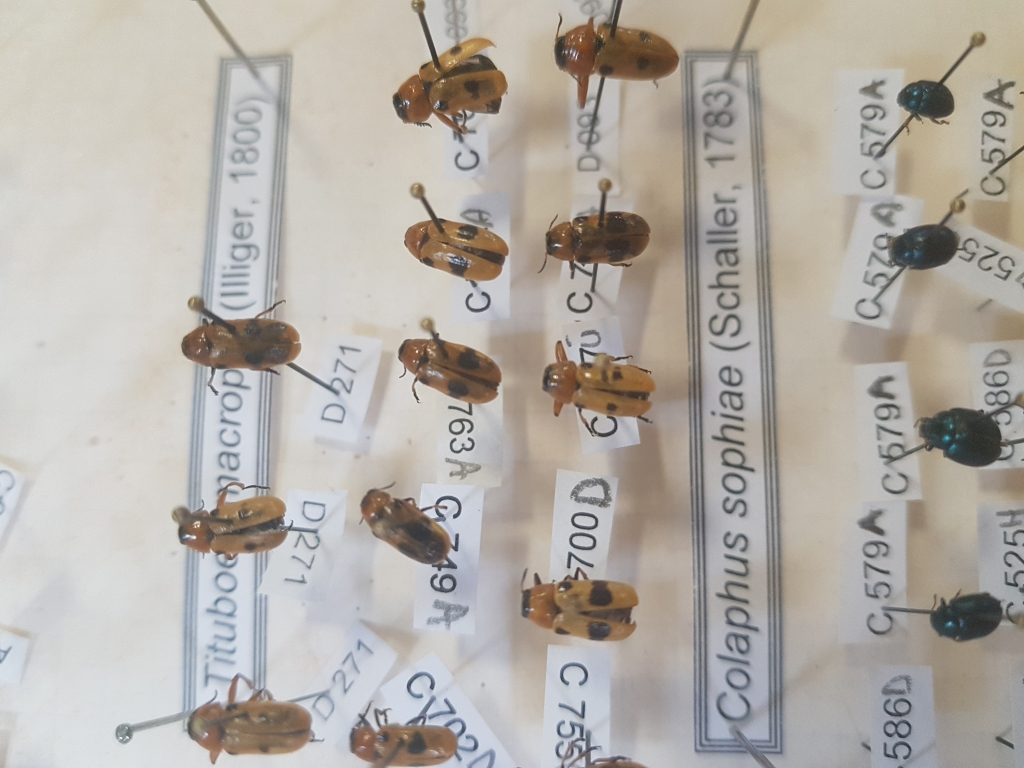Tituboea_macropus: (384, 33, 512, 129), (549, 12, 681, 100), (544, 337, 661, 432), (515, 562, 644, 645), (164, 476, 293, 559), (185, 674, 316, 755), (349, 481, 458, 567), (399, 330, 509, 414), (534, 204, 657, 277), (175, 317, 311, 378), (341, 704, 464, 768)
